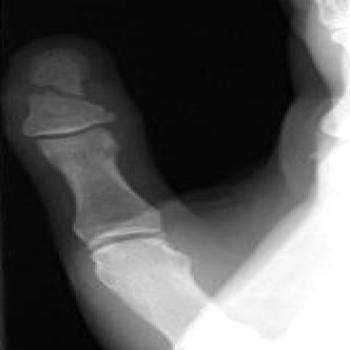Fracture: (12, 73, 110, 109)
